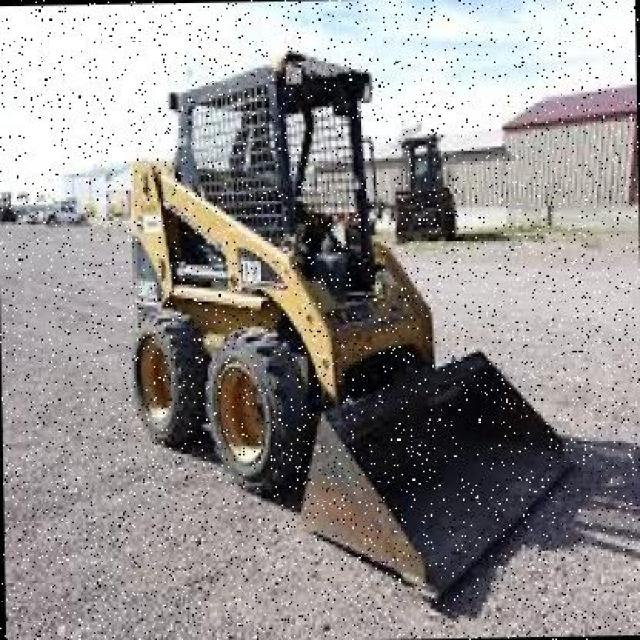buldozerpayloadergrader: (117, 49, 588, 622)
